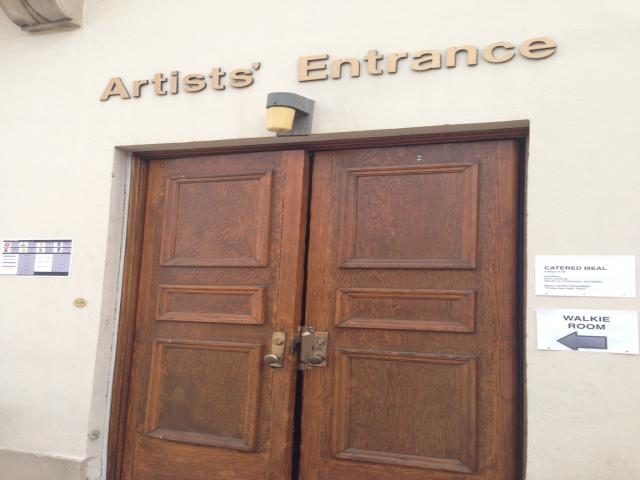Door-handle: (261, 330, 289, 368), (307, 332, 330, 365)
